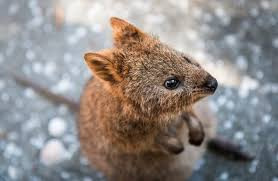quokka: (65, 12, 226, 181)
